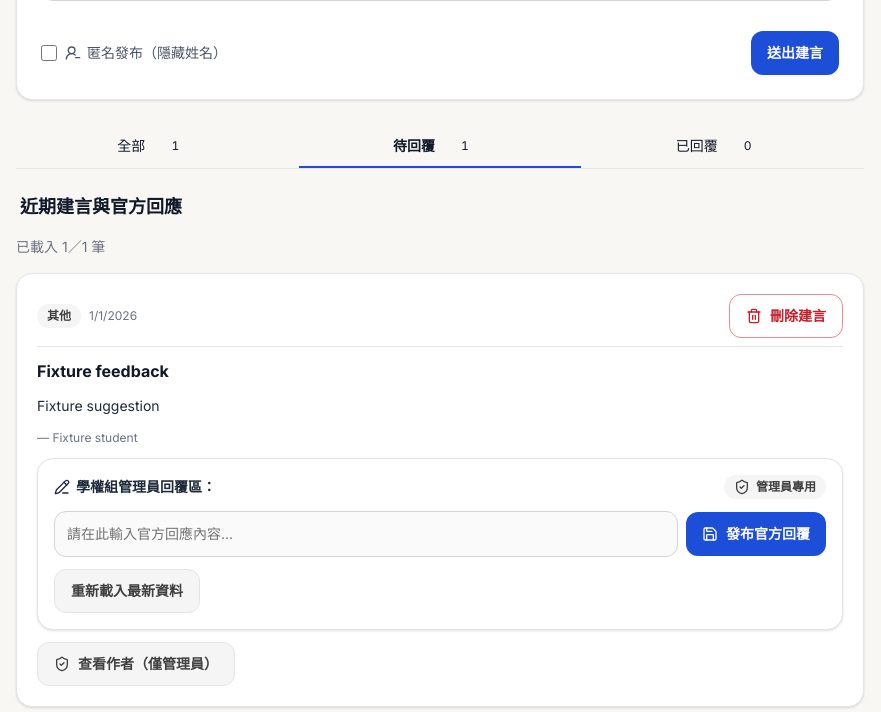
Test: verified admin replies with success
The image size is (881, 712).
(page scrolled)
Expected: the text "Fixture suggestion" is shown, left=37, top=397, right=160, bottom=414
In the field with placeholder "請在此輸入官方回應內容...": (366, 534) left=54, top=511, right=678, bottom=557, type "Official reply text"
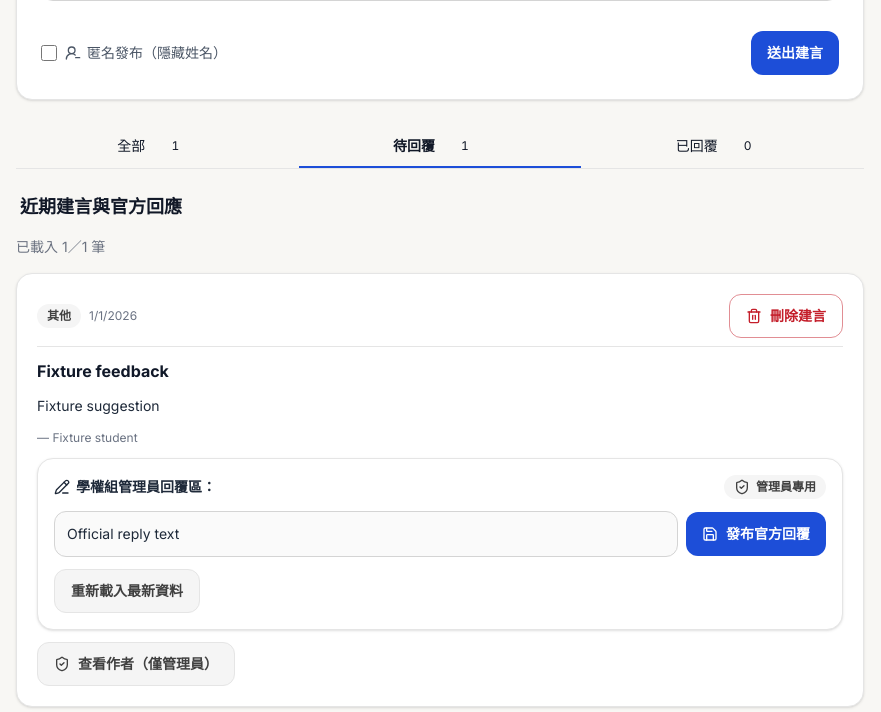
Click the button "發布官方回覆": click(756, 534) left=686, top=512, right=826, bottom=556
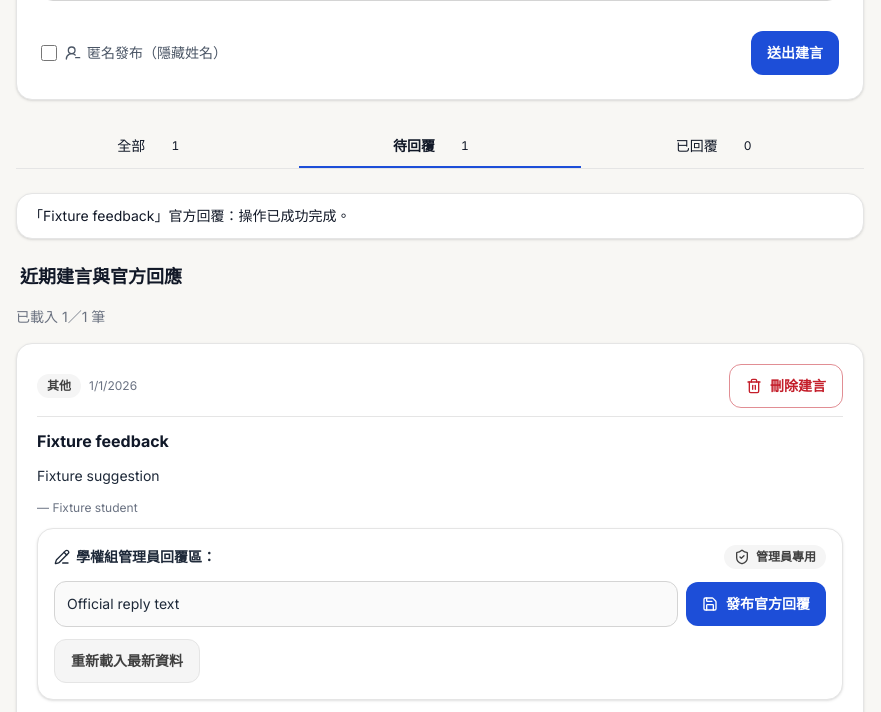
Result: the message "「Fixture feedback」官方回覆：操作已成功完成。" is shown at left=29, top=207, right=350, bottom=224
